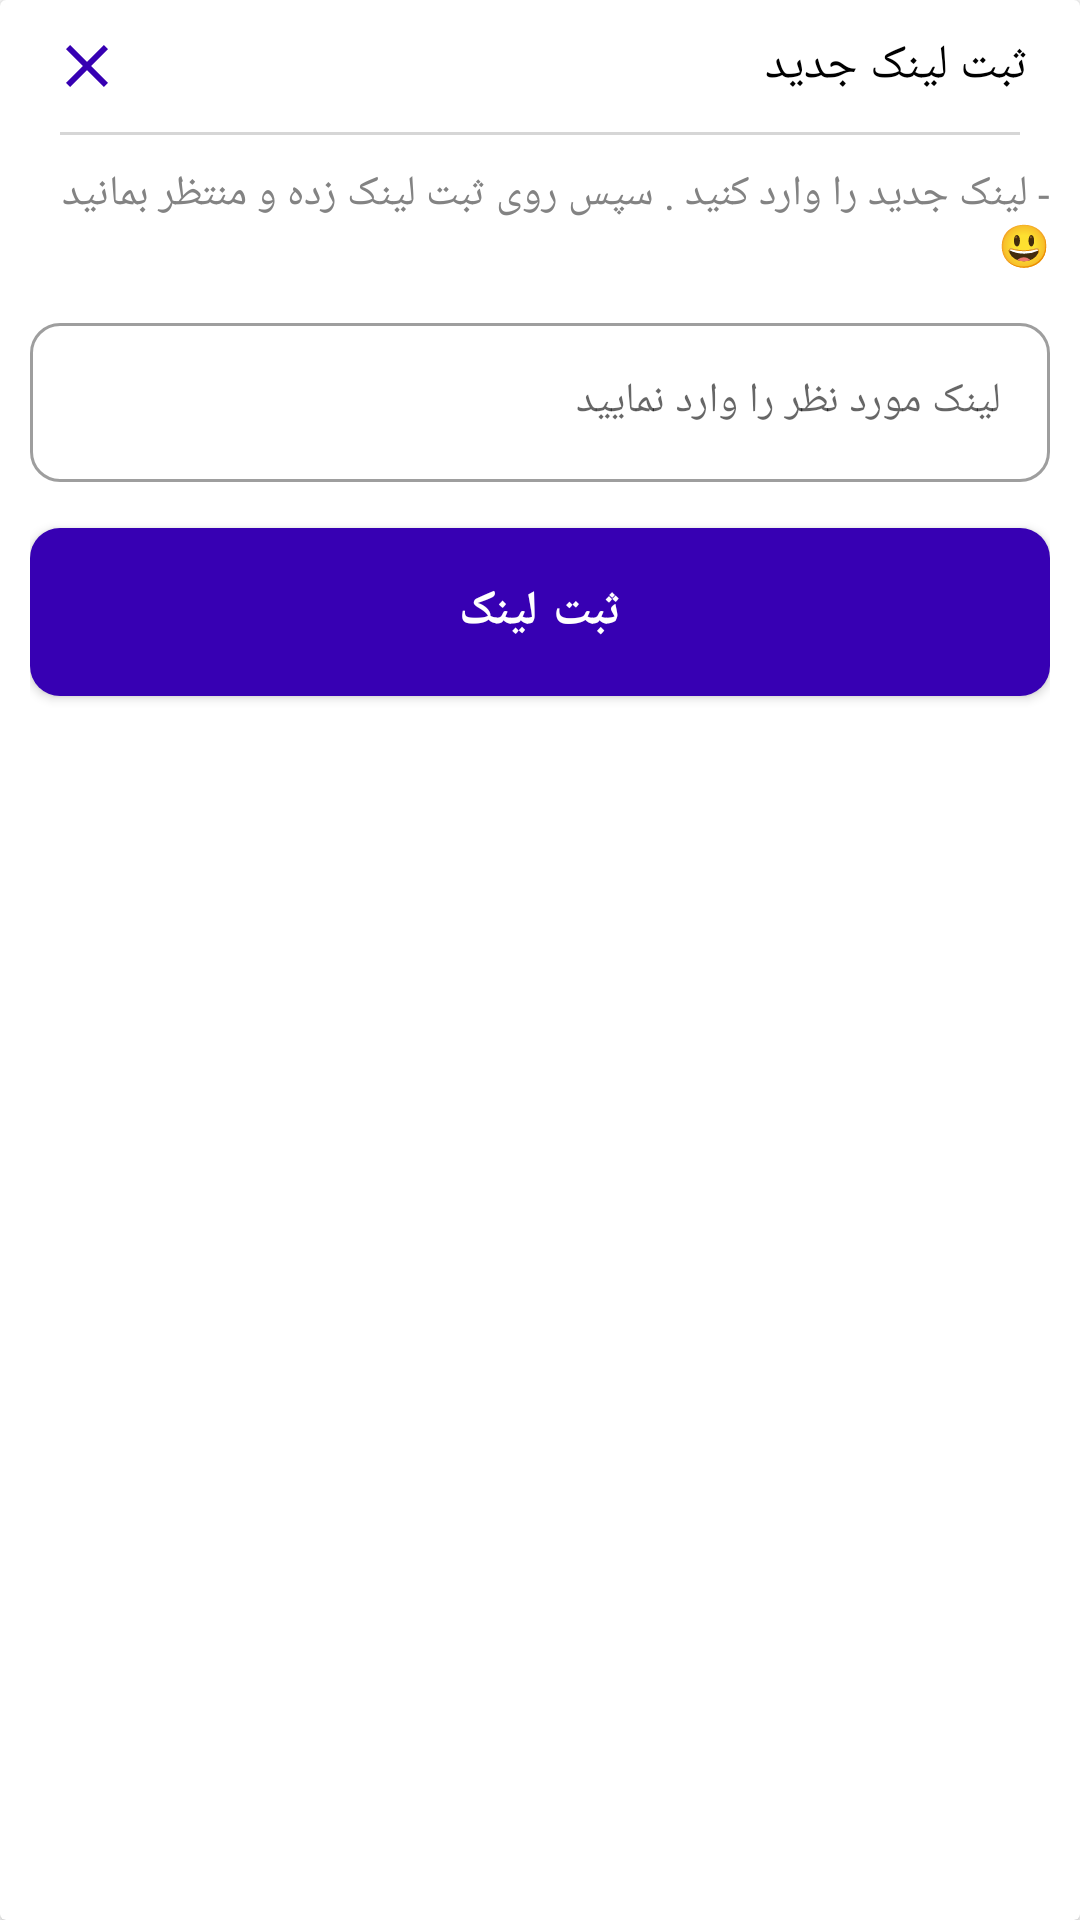

Screen size 1080w x 1920h. Icon name, then its center in pixels as (x,y):
close assets: (87,66)
